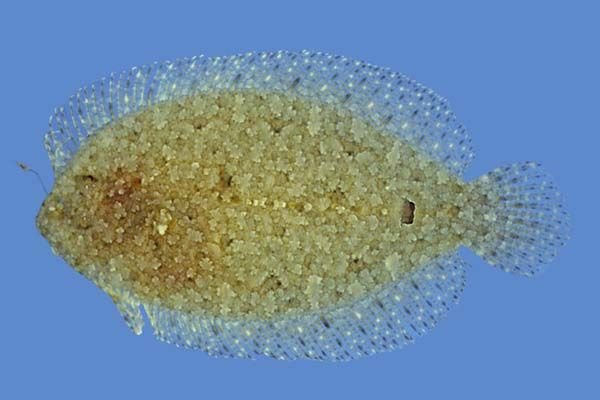fish: (35, 52, 570, 358)
